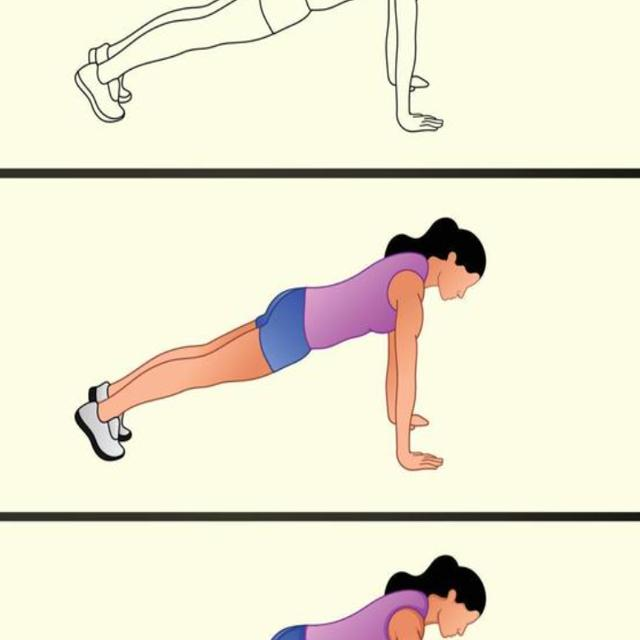Plank_Pose: (74, 210, 489, 475)
